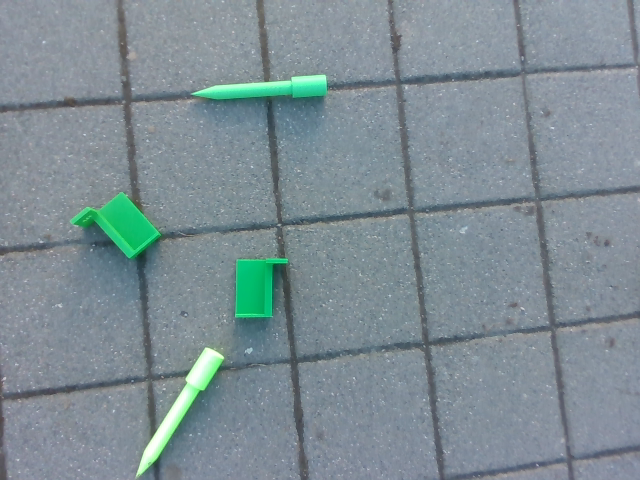Probe: (131, 341, 225, 480), (187, 66, 334, 110)
